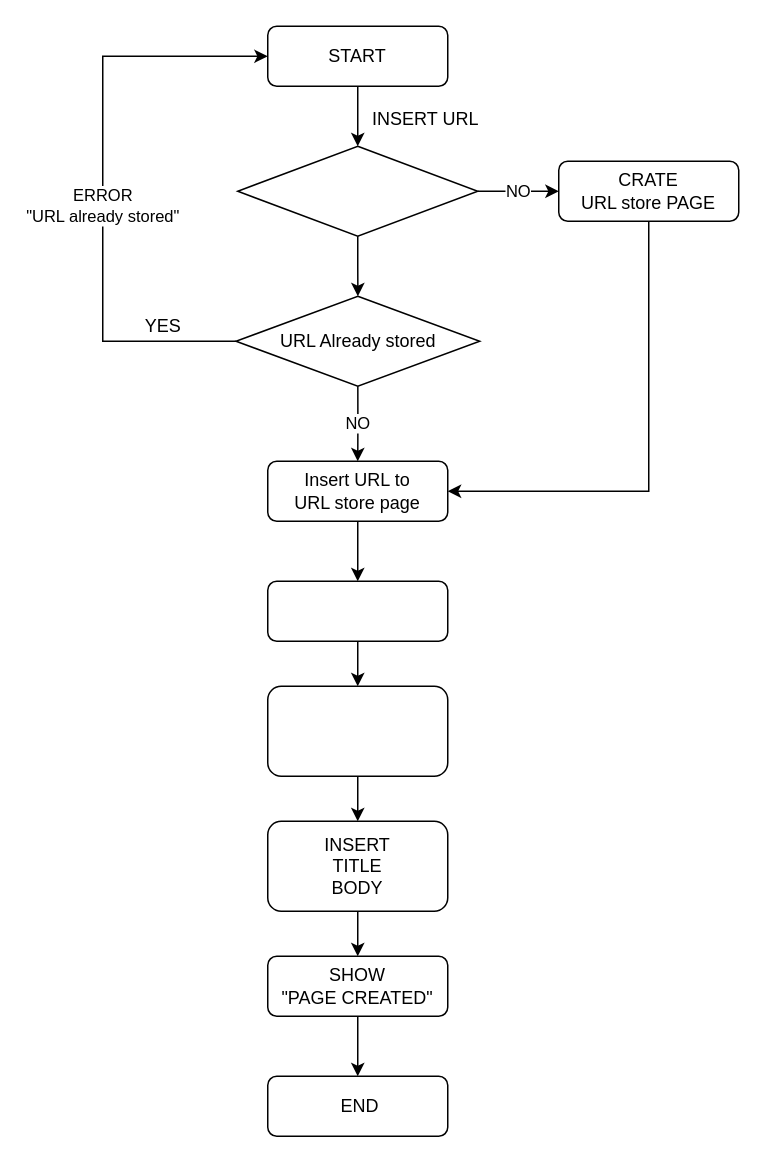
Some shapes in this 765 by 1163 pixel diagram are drawn without their labels. The centre of each missing label's shape, as x and y in pixels:
"CRAWL Page information" goes at point 357,730.
"CREATE New Page" goes at point 357,610.
"URL Store page exists" goes at point 357,190.
